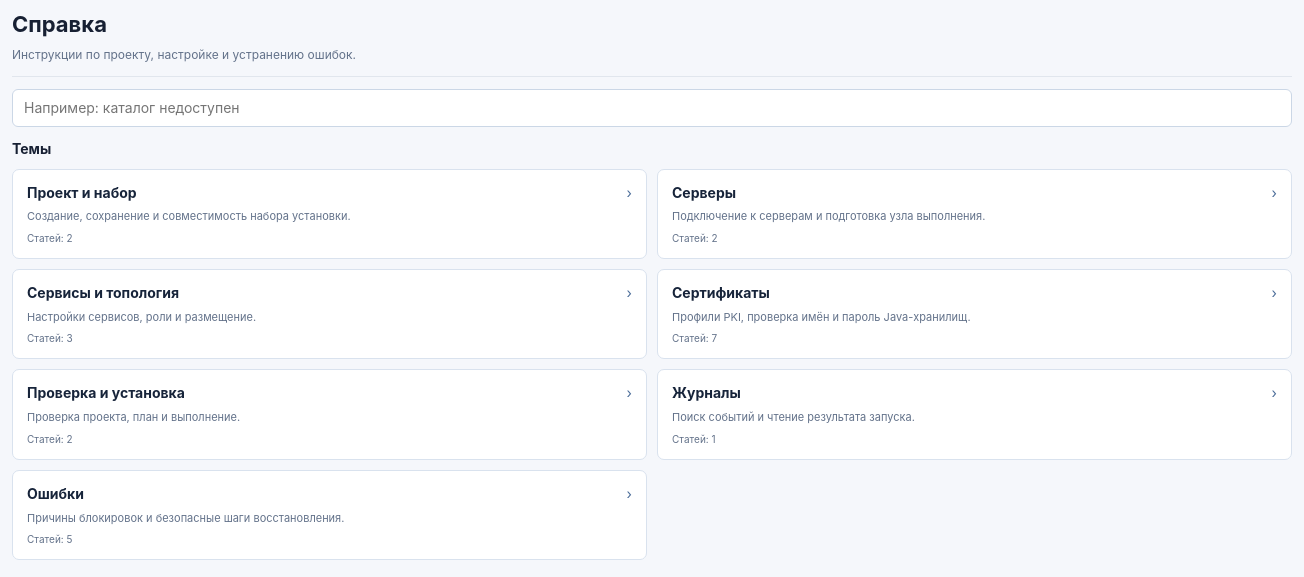
it: UtilityPages help › explains how to check the real run state and latest safe events on Execution Node
Click the button "Ошибки": click(330, 515) [12,470,647,560]
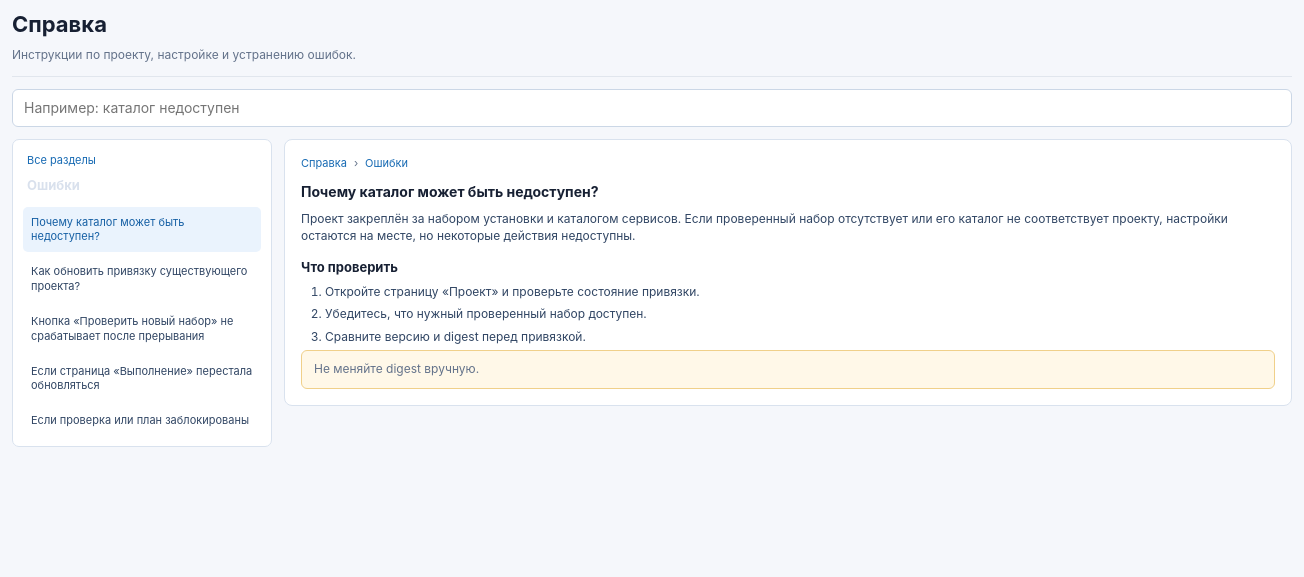
Click the button "Если страница «Выполнение» перестала обновляться": click(142, 378) [23,356,261,401]
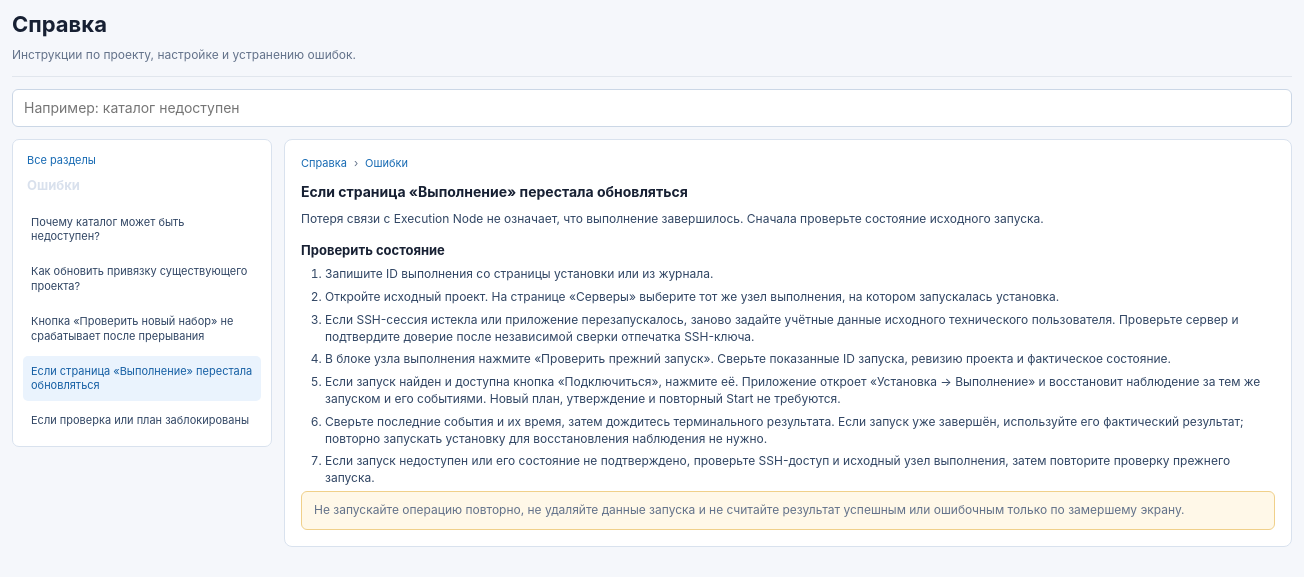
Now the heading "Если страница «Выполнение» перестала обновляться" is shown, box [301,183,688,200]
Now the text "Потеря связи с Execution Node не означает, что выполнение завершилось" is shown, box [301,211,1044,226]
Now the text "Не запускайте операцию повторно" is shown, box [314,502,1185,517]
